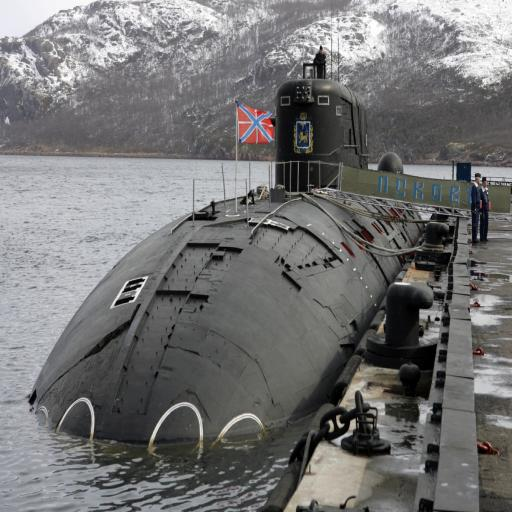submarine: (20, 34, 438, 455)
